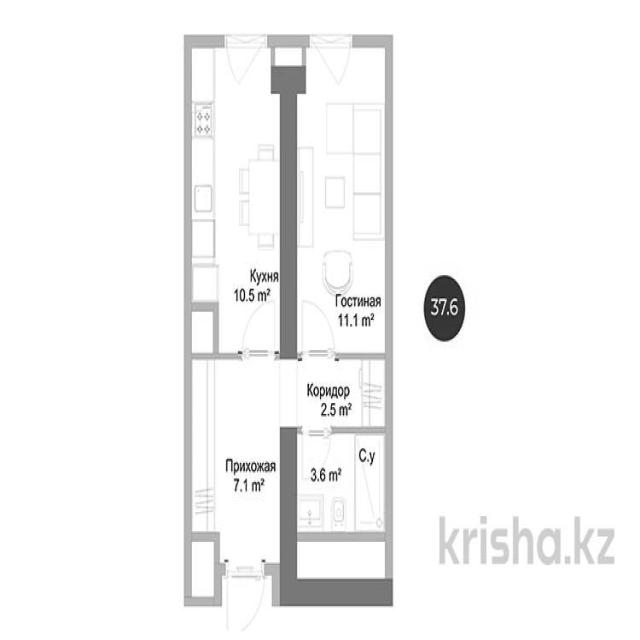bathroom: (288, 432, 386, 543)
hallway: (216, 358, 286, 570), (293, 355, 387, 429)
kitchen: (188, 41, 285, 353)
living_room: (290, 50, 390, 360)
